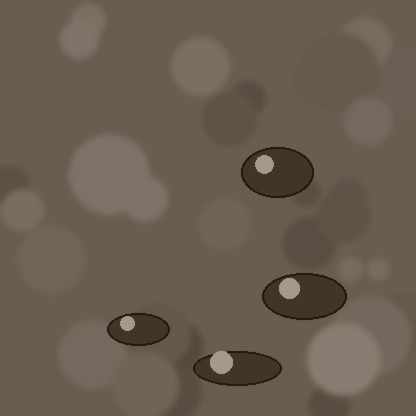gota: (262, 275, 346, 323), (241, 149, 313, 201), (193, 352, 281, 388), (107, 314, 169, 348)
